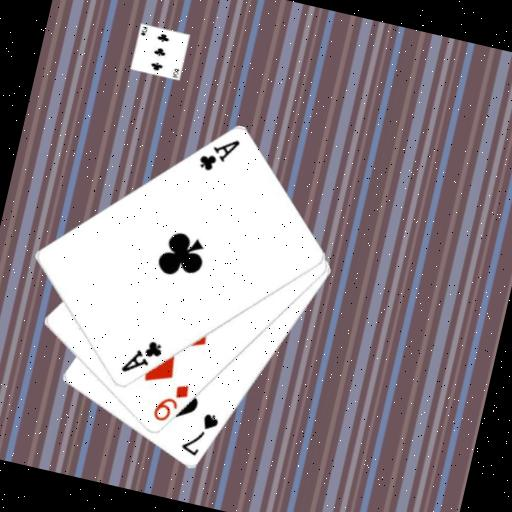7S: (177, 406, 222, 463)
9D: (148, 376, 192, 429)
AC: (117, 332, 166, 382), (194, 130, 243, 180)
